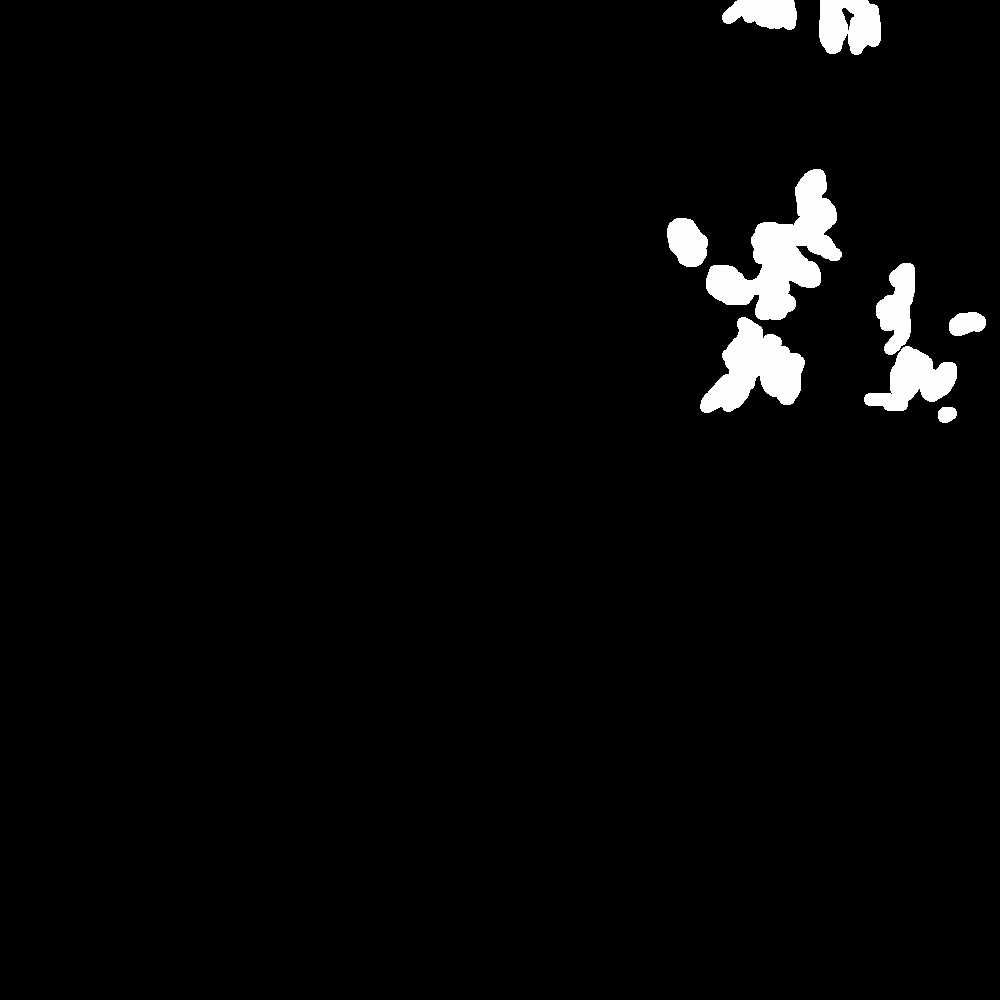illegal: (665, 167, 988, 431), (729, 1, 879, 59), (801, 493, 839, 570)
